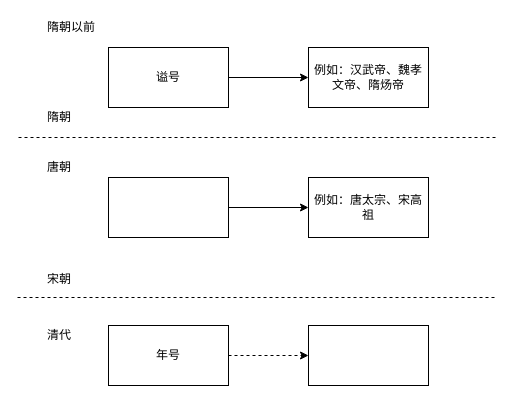
This 517x403 diagram has some shape labels left out. Each missing label, with the centre of its shape:
"例如：雍正帝、乾隆帝、光绪帝" belongs at (368,355).
"庙号" belongs at (168,207).
